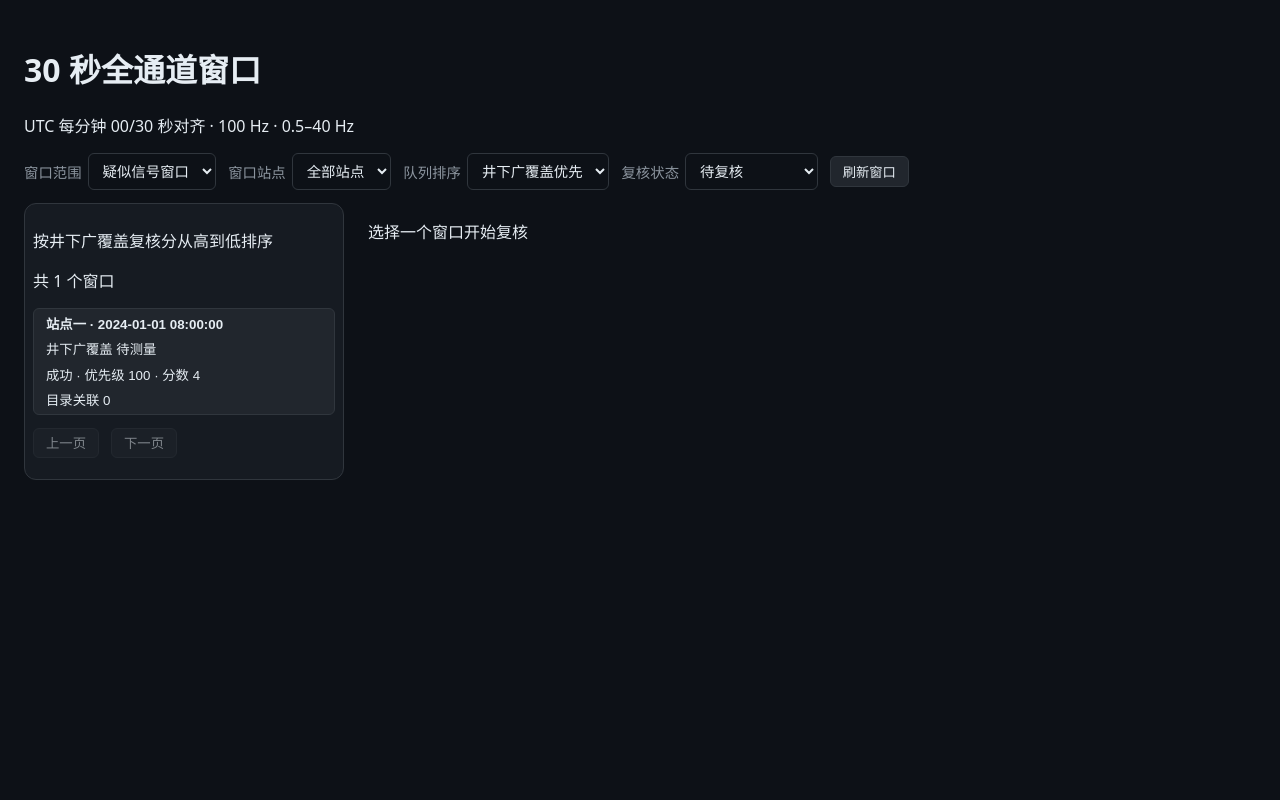
Scenario: formats evidence rule scores while preserving zero: null
Click the button "站点一" at (66,324), box [33,308,335,415]
(page scrolled)
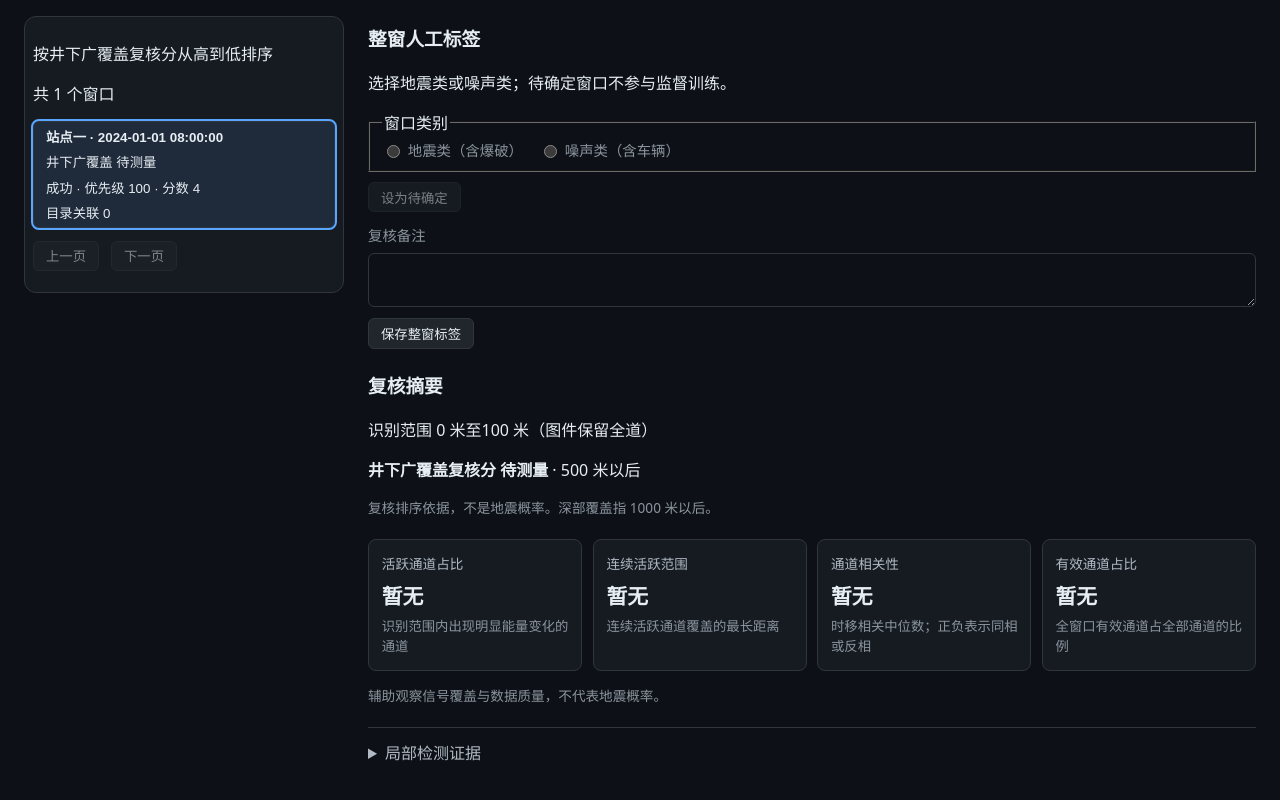
Click the heading "局部检测证据" at (433,753), box [385,742,481,764]
(page scrolled)
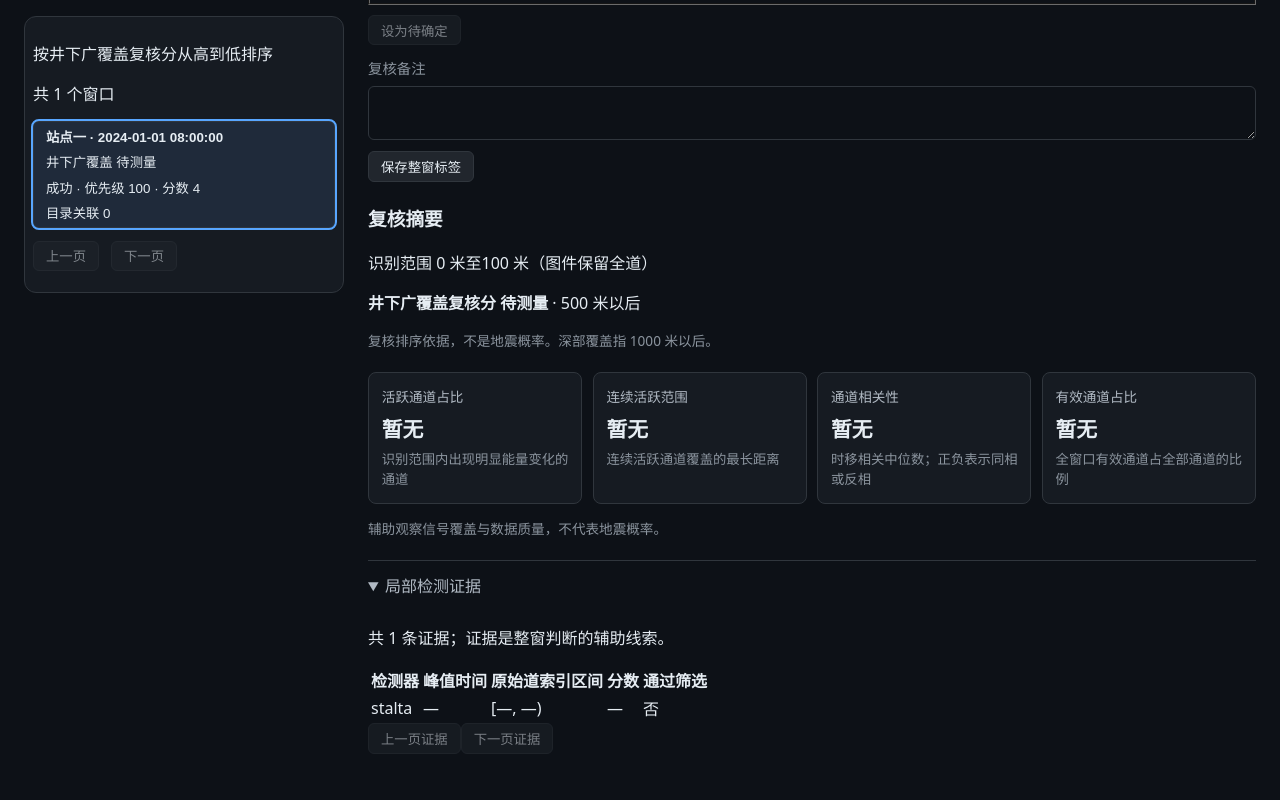
Now the 2nd cell "—" is shown, box [606,695,640,721]
